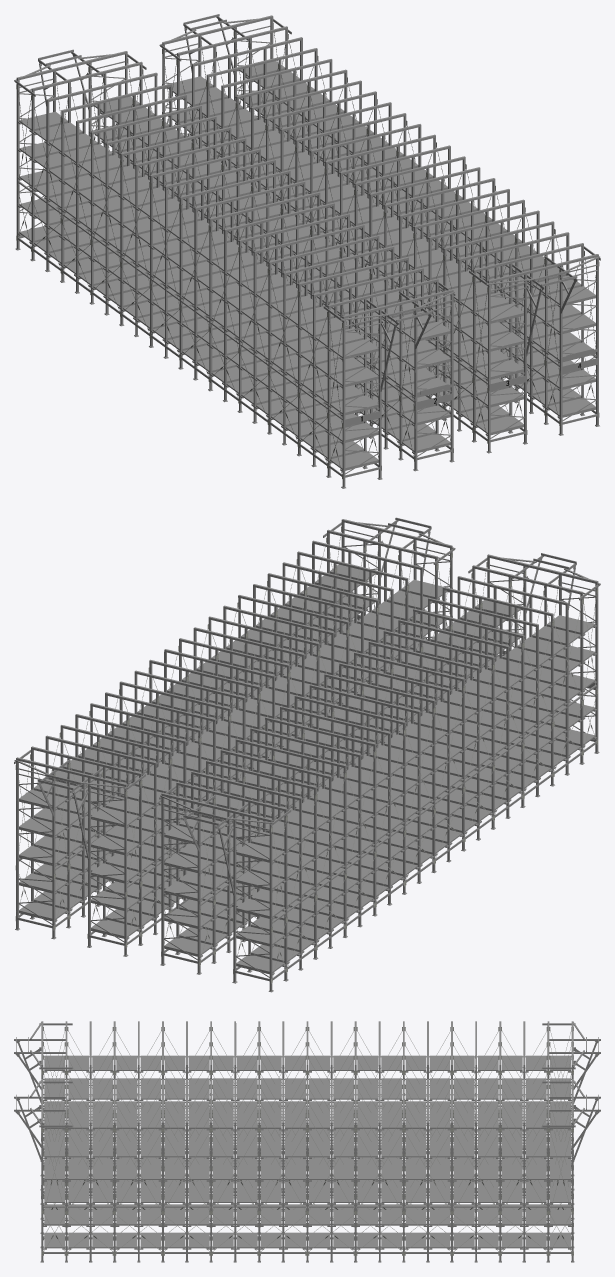
File: YF_LiQiCangKu_HuoJia01.FBX
The picture shows the model from 3 angles, top to bottom: view 1: azimuth 30°, elevation 25°; view 2: azimuth 150°, elevation 25°; view 3: azimuth 270°, elevation 25°; orthographic projection. The views are drawn at different scales.
Parts seen in each view (by area): view 1: YF_Model_LiQiCangKu_HuoJia01_01, YF_Model_LiQiCangKu_HuoJia01_02; view 2: YF_Model_LiQiCangKu_HuoJia01_01, YF_Model_LiQiCangKu_HuoJia01_02; view 3: YF_Model_LiQiCangKu_HuoJia01_01, YF_Model_LiQiCangKu_HuoJia01_02.
Part boxes in pixels (box(x1,y1,x2,y2)): YF_Model_LiQiCangKu_HuoJia01_01: box(14, 14, 600, 488); YF_Model_LiQiCangKu_HuoJia01_02: box(16, 23, 599, 479); YF_Model_LiQiCangKu_HuoJia01_01: box(14, 517, 600, 992); YF_Model_LiQiCangKu_HuoJia01_02: box(15, 526, 598, 983); YF_Model_LiQiCangKu_HuoJia01_01: box(14, 1021, 600, 1262); YF_Model_LiQiCangKu_HuoJia01_02: box(41, 1027, 573, 1255).
Size of the model in its own units: 1318 by 833 by 3175.
2 materials, 1 textured.
